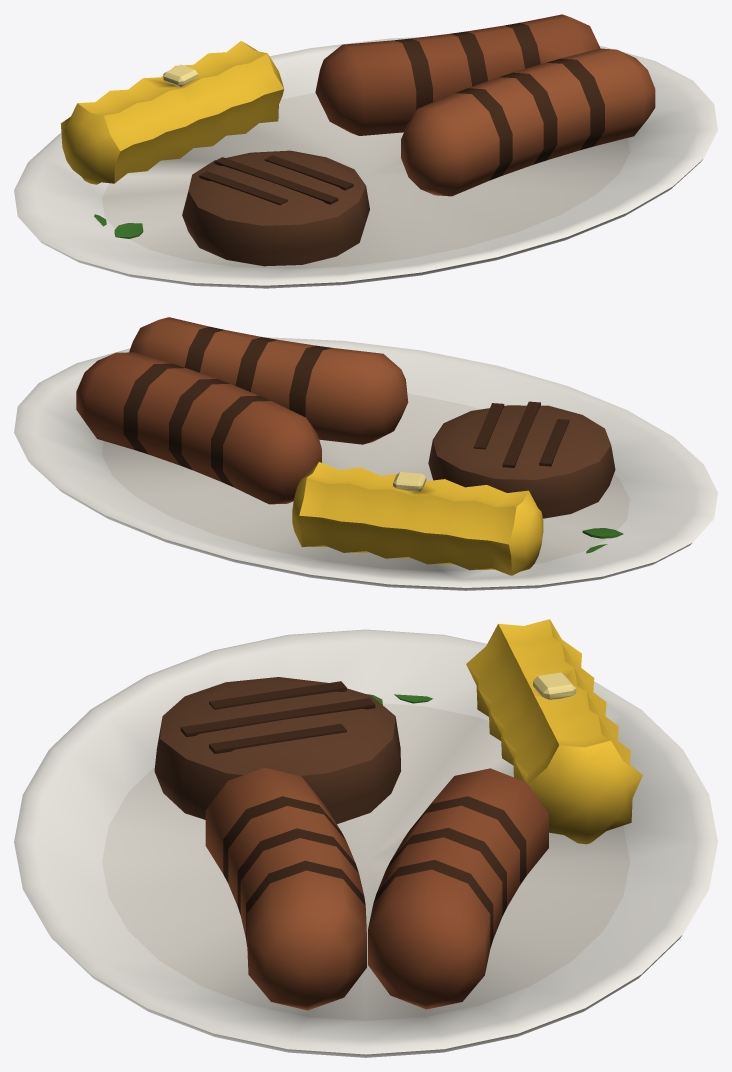
The model's file is grillPlatter.glb.
The picture shows the model from 3 angles, top to bottom: view 1: azimuth 30°, elevation 25°; view 2: azimuth 150°, elevation 25°; view 3: azimuth 270°, elevation 25°; orthographic projection. The views are drawn at different scales.
Visible parts, largest first — view 1: grillPlatter; view 2: grillPlatter; view 3: grillPlatter.
Part boxes in pixels (box(x1,y1,x2,y2)): grillPlatter: box(14, 14, 717, 288); grillPlatter: box(14, 317, 717, 590); grillPlatter: box(14, 619, 717, 1057).
Bounding box in the file's own units: 0.4 × 0.06 × 0.28.
